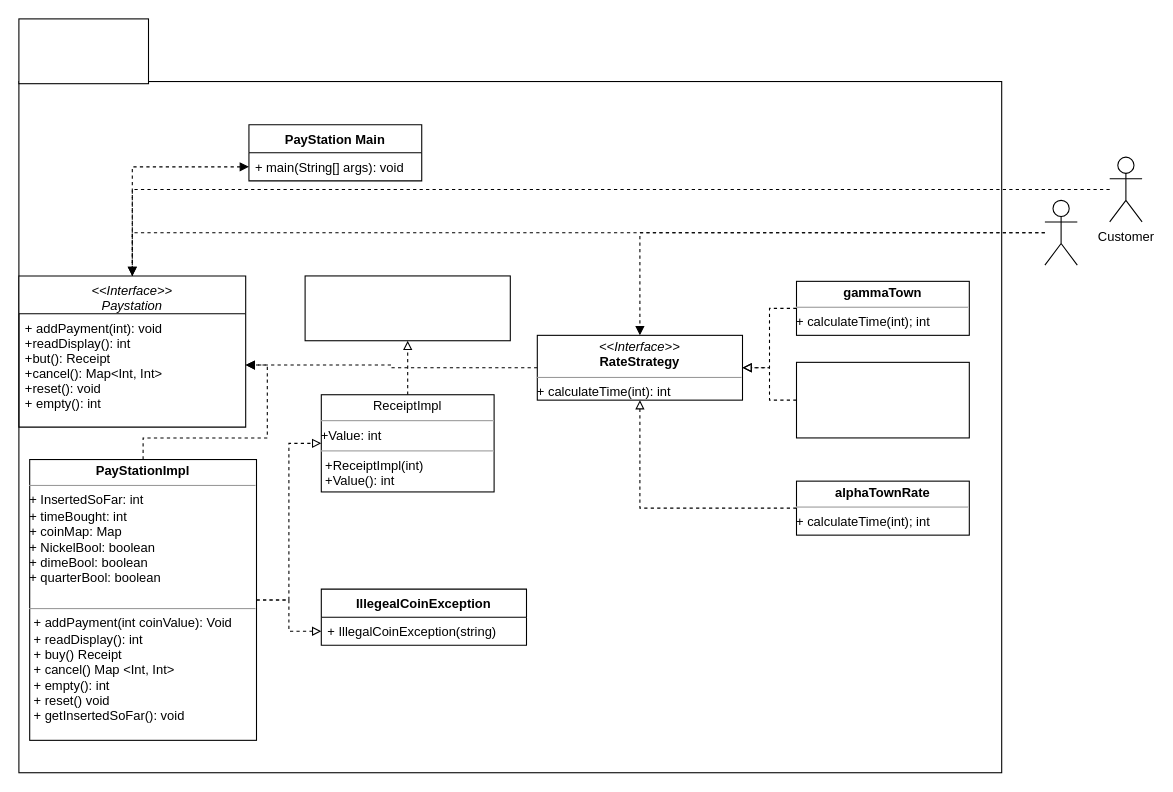
The diagram is 1173 pixels wide and 792 high, and some of its shapes have lost their labels. The shapes that lost their labels are listed below. From the top down, each one's centre as x and y in pixels, then its label:
At pixel 83 51: "Frame".
At pixel 1060 232: "Maintenace".
At pixel 407 308: "<<Interface>> Receipt +value(): int".
At pixel 882 399: "betaTown + calculateTime(int); int + weekendRate(): boolean".
